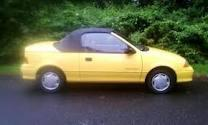Car: (14, 24, 201, 101)
